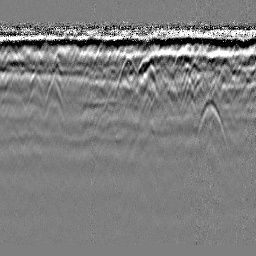cavity: (118, 52, 137, 83)
